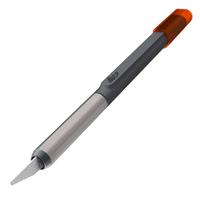knife: (5, 50, 151, 192)
